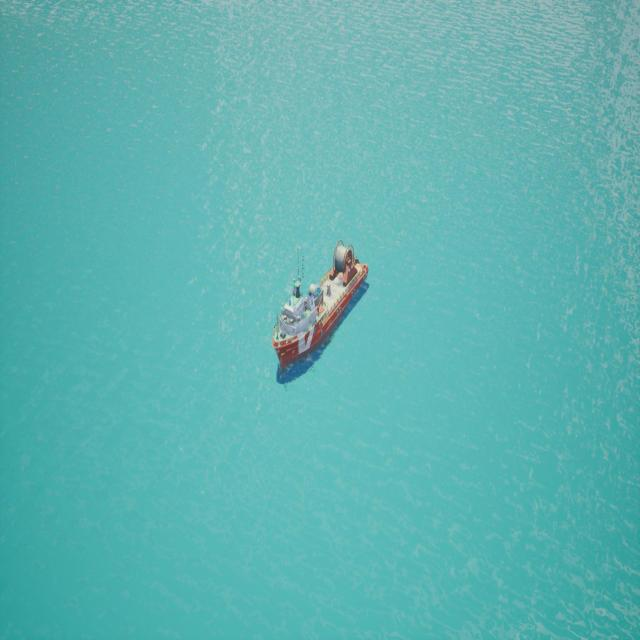tug boat: (244, 199, 394, 397)
